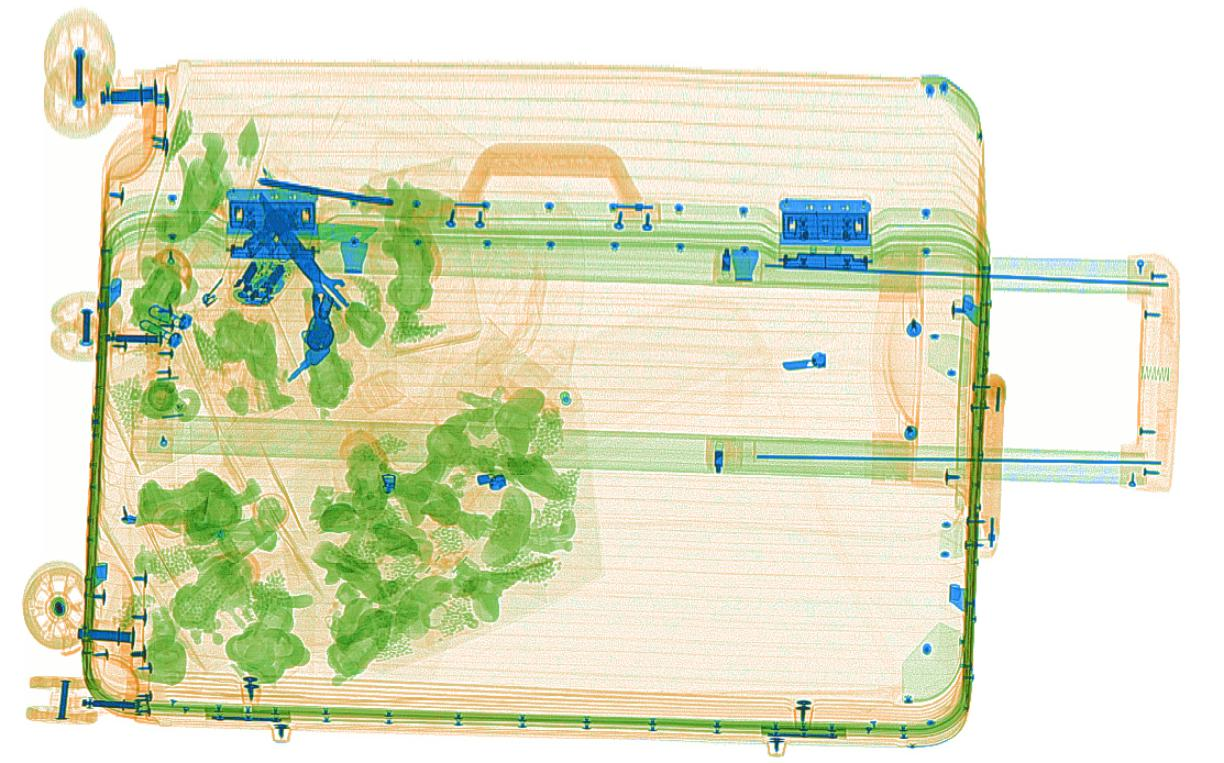knife: (277, 215, 381, 246)
scissors: (253, 189, 384, 347)
